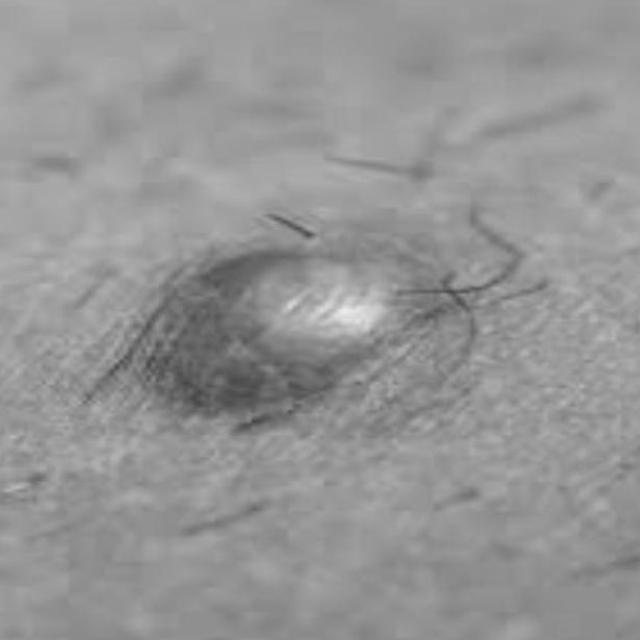pustule: (117, 186, 520, 460)
